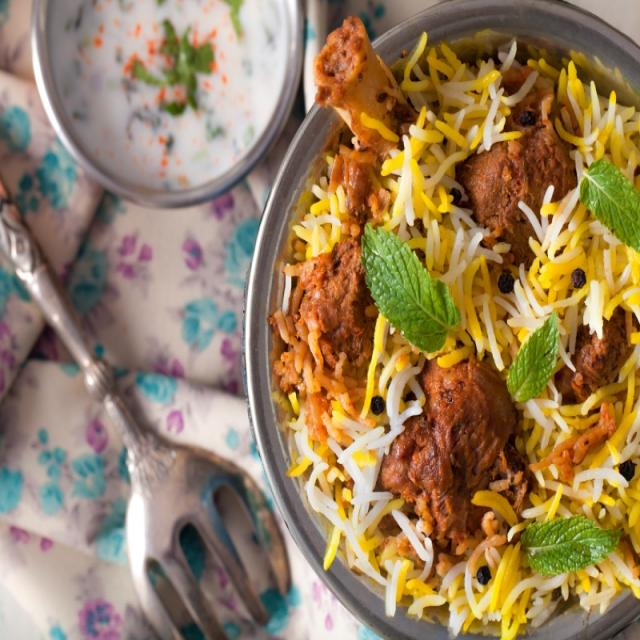Biryani: (279, 12, 639, 639)
